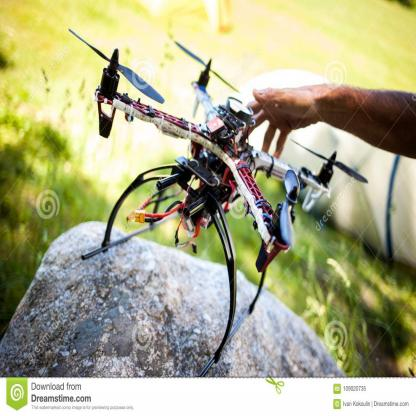drone: (63, 17, 374, 309)
